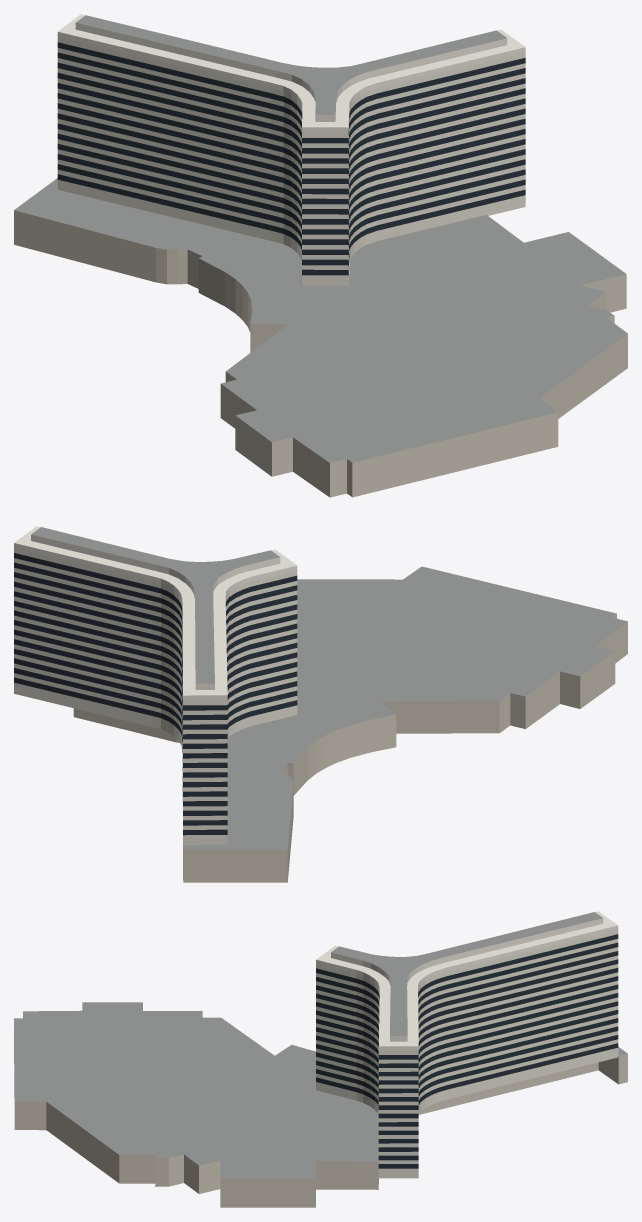
The model's file is westgate_las_vegas_res_w134691921.glb.
3 views of the same model, one above another, from view 1: azimuth 30°, elevation 25°; view 2: azimuth 150°, elevation 25°; view 3: azimuth 270°, elevation 25° (orthographic). The views are drawn at different scales.
Parts seen in each view (by area): view 1: ResortTower; view 2: ResortTower; view 3: ResortTower.
Boxes of the visible parts, left/top/right/bottom form: ResortTower: left=14, top=14, right=627, bottom=497; ResortTower: left=14, top=526, right=627, bottom=882; ResortTower: left=14, top=911, right=627, bottom=1207.
Size of the model in its own units: 267 by 116 by 392.
